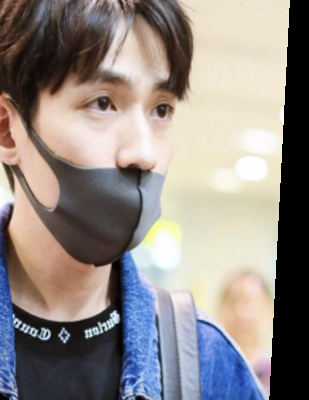mask_weared_incorrect: (1, 1, 198, 274)
